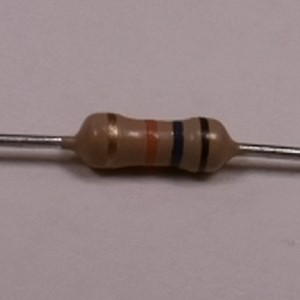blue_band: (168, 117, 185, 171)
gold_band: (103, 110, 120, 174)
green_band: (193, 115, 212, 177)
orange_band: (140, 116, 161, 171)
